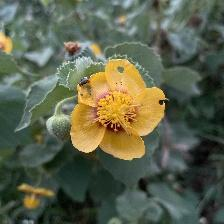indian mallow: (70, 56, 168, 161)
